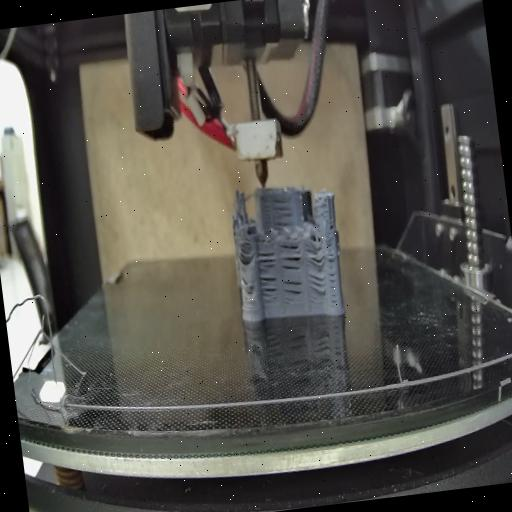cracks: (256, 248, 281, 304), (324, 244, 342, 308), (275, 237, 304, 272), (268, 193, 295, 229), (281, 276, 307, 306), (306, 244, 326, 270), (308, 272, 327, 295), (236, 242, 252, 266), (240, 274, 249, 288), (328, 217, 334, 231)
